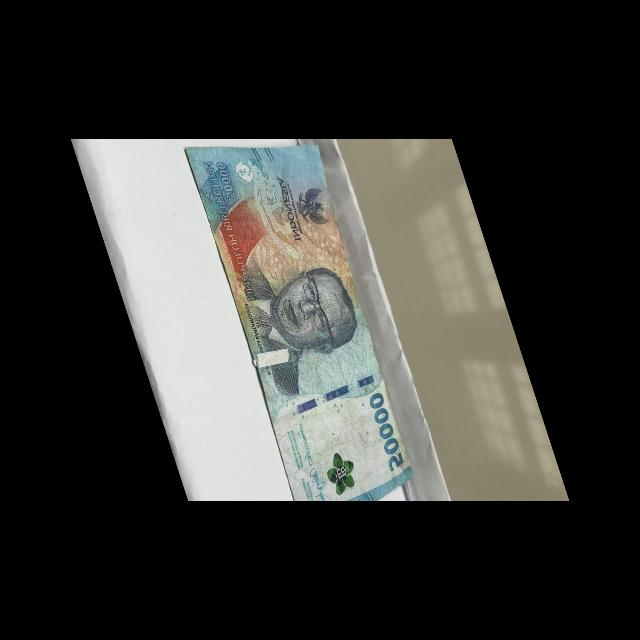Palsu-50k: (178, 102, 421, 528)
Tinta-Palsu-50k: (319, 447, 363, 498)
